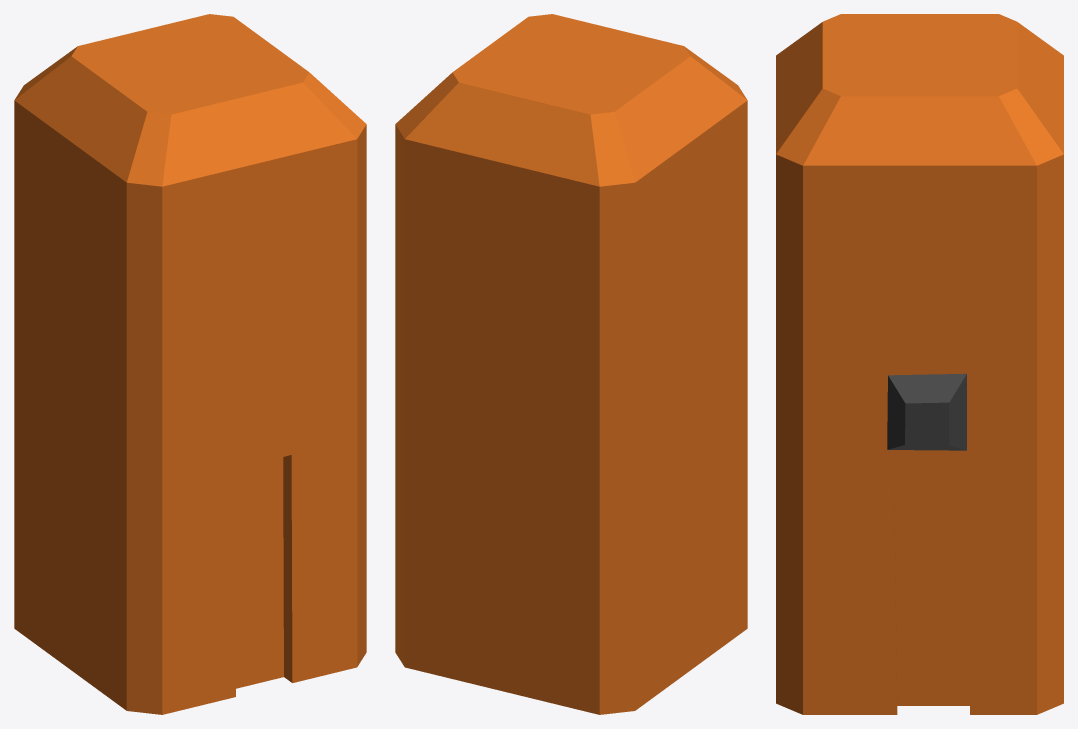
3 views of the same model, side by side, from view 1: azimuth 30°, elevation 25°; view 2: azimuth 150°, elevation 25°; view 3: azimuth 270°, elevation 25° (orthographic). The views are drawn at different scales.
Visible parts, largest first — view 1: Cube; view 2: Cube; view 3: Cube.
Boxes of the visible parts, bbox=[...] form: Cube: bbox=[14, 14, 366, 714]; Cube: bbox=[395, 14, 747, 714]; Cube: bbox=[776, 14, 1063, 714].
Bounding box in the file's own units: 219 × 459 × 200.
